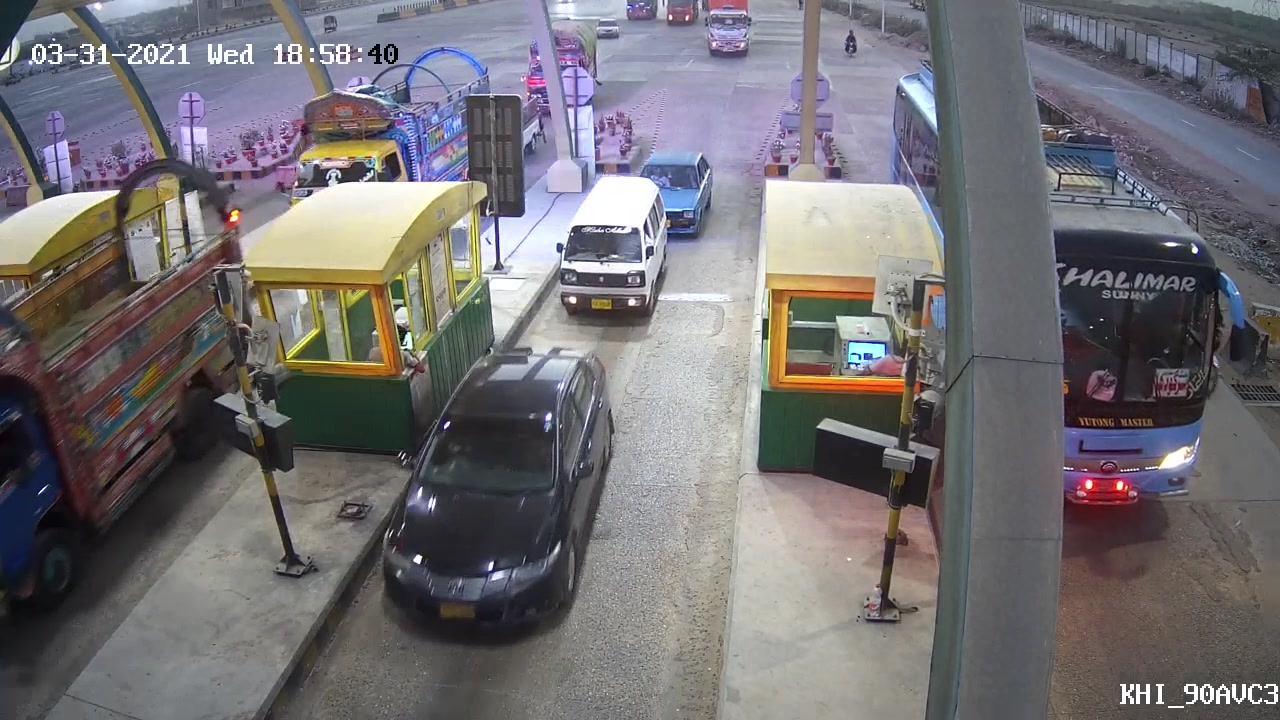F1: (378, 341, 619, 631)
F2: (549, 173, 670, 318)
